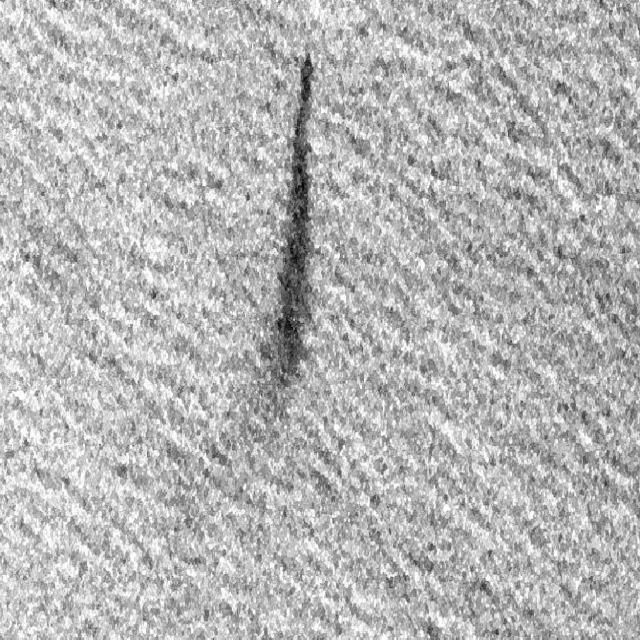oil-spill: (241, 46, 341, 422)
